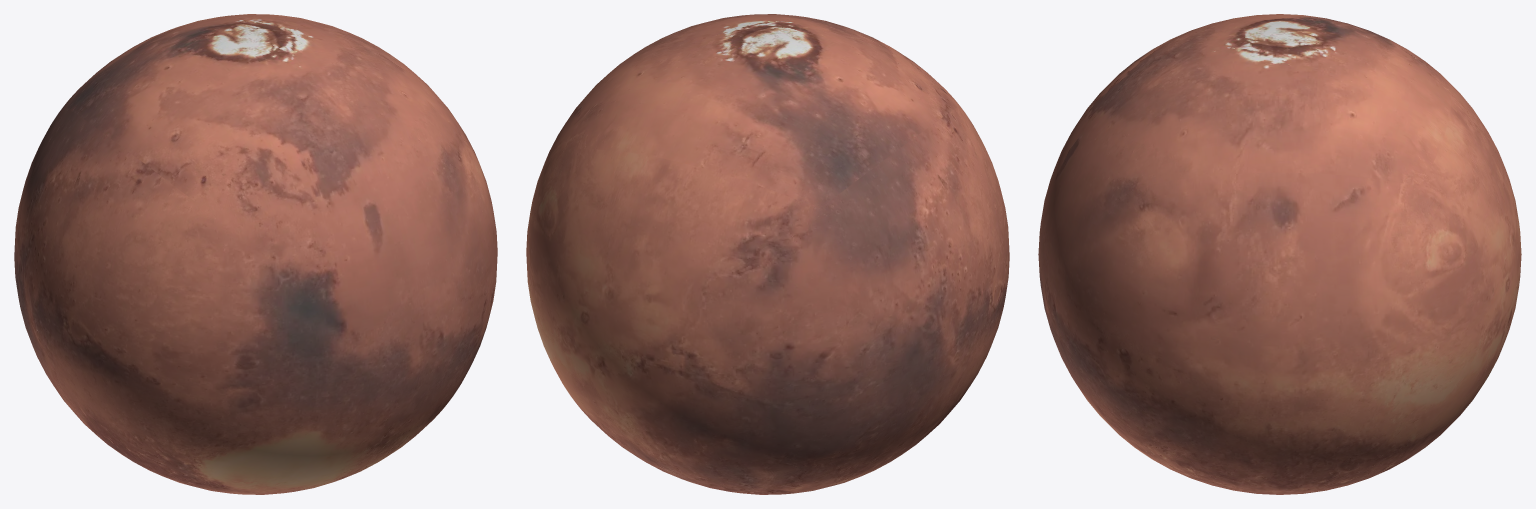
File: 24881_Mars_1_6792-compressed.glb
3 renders of one model, left to right at view 1: azimuth 30°, elevation 25°; view 2: azimuth 150°, elevation 25°; view 3: azimuth 270°, elevation 25°, orthographic.
Parts seen in each view (by area): view 1: Cube008; view 2: Cube008; view 3: Cube008.
Part boxes in pixels (bbox=[...]): Cube008: bbox=[14, 14, 497, 494]; Cube008: bbox=[526, 14, 1009, 494]; Cube008: bbox=[1038, 14, 1521, 494].
Bounding box in the file's own units: 1000 × 994 × 1000.
1 material, 1 textured.
